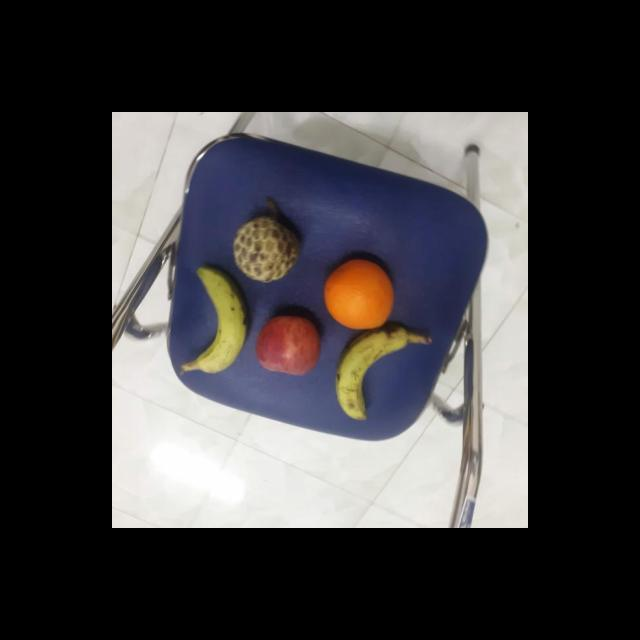Sakya fruit: (229, 215, 303, 282)
apple: (255, 314, 322, 378)
banana: (330, 326, 416, 424), (190, 266, 249, 378)
orange: (324, 252, 398, 331)
